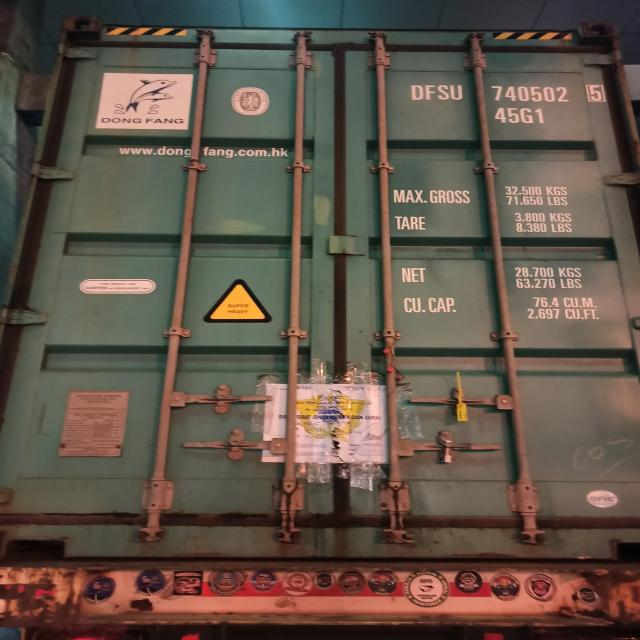seal: (453, 372, 470, 423), (443, 439, 456, 464)
